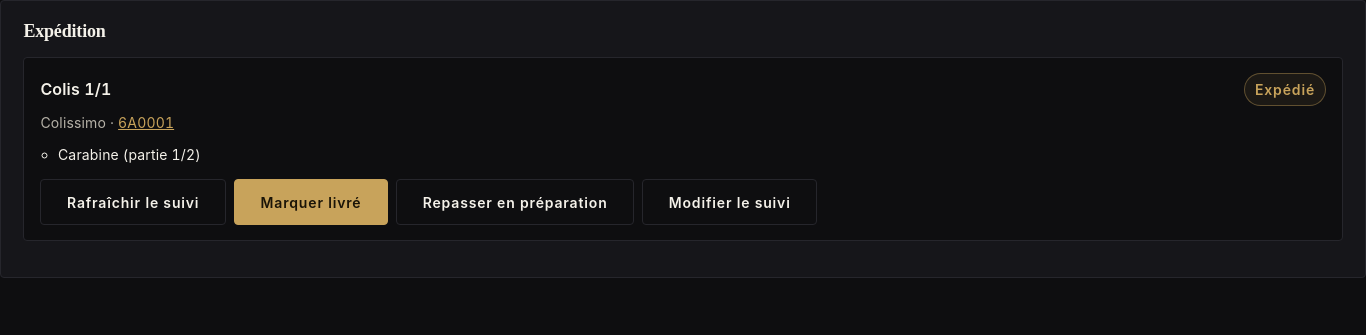
Test case: AdminShipmentsPanel (story 11.9) › carrier tracking › relays the server's explanation when no carrier can be asked
Click the button with class "track-btn" at (133, 202), box 40,179 -> 226,225
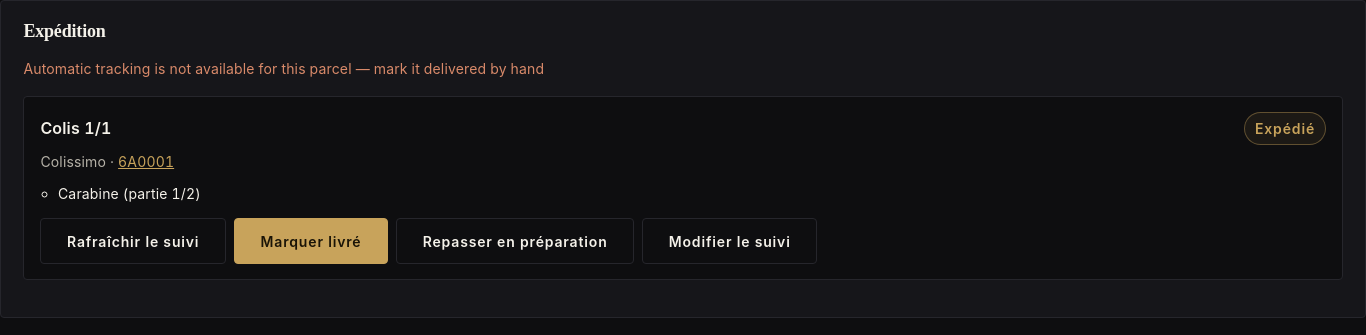
expect the message with class "alert" shows "mark it delivered by hand": met, box 23,60 -> 544,77
